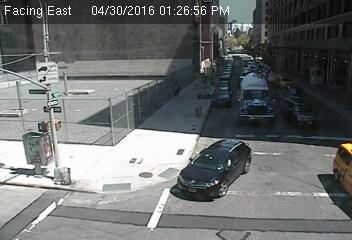neg: (266, 22, 298, 64), (302, 28, 333, 70), (198, 110, 227, 149), (96, 142, 123, 177), (8, 160, 35, 195), (149, 46, 175, 81), (307, 166, 332, 198), (103, 57, 127, 90), (107, 6, 131, 38), (200, 149, 224, 181), (245, 8, 268, 38), (308, 95, 330, 124), (149, 122, 170, 149), (190, 6, 210, 32), (98, 101, 116, 125), (341, 132, 351, 152), (241, 11, 253, 27), (57, 4, 61, 9)
pos: (168, 80, 183, 101)
